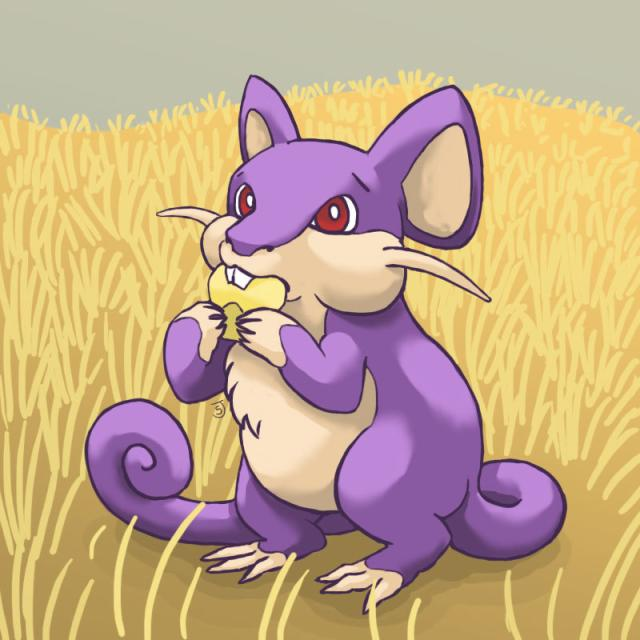Rattata: (171, 75, 504, 589)
